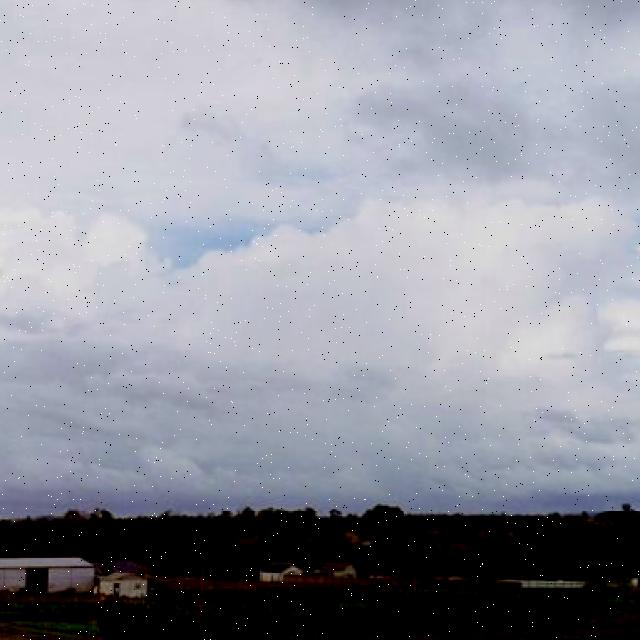Sc: (1, 35, 640, 423)
